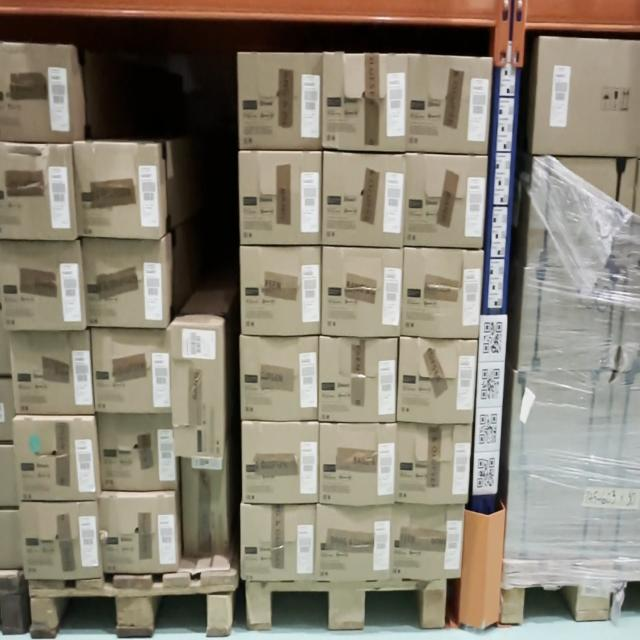box: (533, 152, 637, 275), (523, 263, 631, 372), (512, 370, 616, 483), (505, 475, 608, 582), (407, 53, 488, 151), (239, 152, 324, 244), (7, 325, 95, 411), (75, 147, 160, 236), (83, 237, 168, 326), (88, 326, 172, 415), (239, 243, 320, 335), (169, 322, 221, 464), (240, 59, 320, 150), (324, 154, 404, 245), (15, 415, 103, 496), (322, 60, 402, 148), (407, 154, 483, 243), (240, 419, 319, 504), (238, 334, 317, 418), (324, 245, 400, 332), (400, 342, 476, 428), (408, 249, 481, 337), (98, 411, 178, 491), (22, 498, 101, 579), (321, 340, 394, 426), (319, 425, 396, 505), (102, 491, 174, 574), (317, 512, 395, 580), (393, 502, 462, 577), (243, 510, 313, 582), (399, 431, 468, 498)
